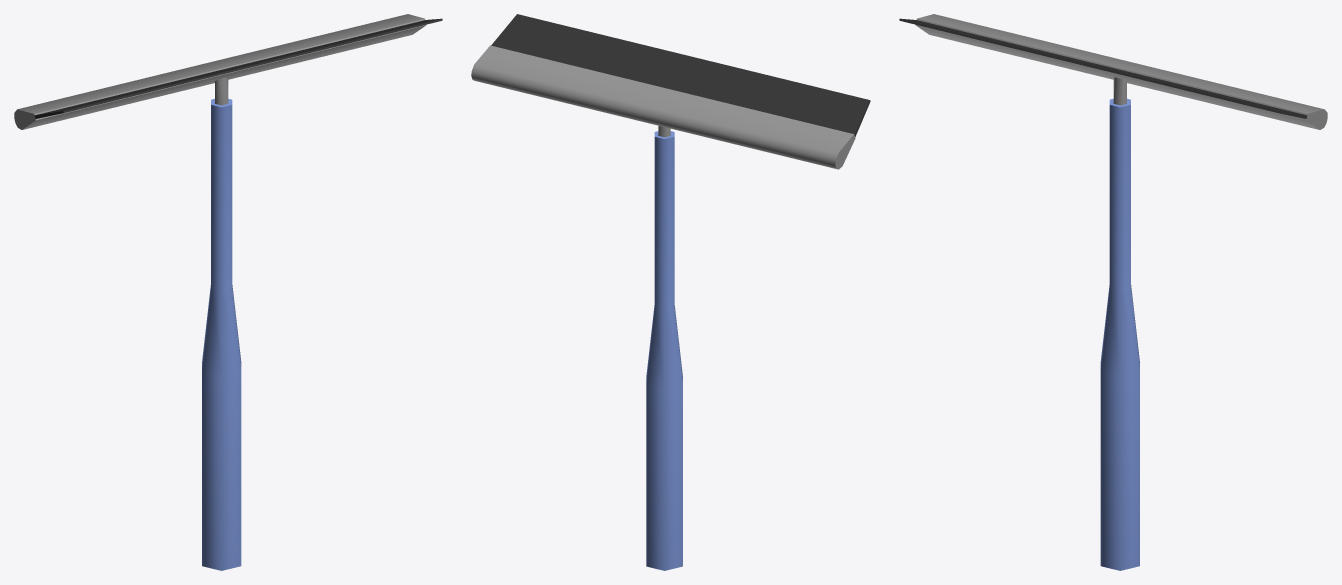
The model's file is Squeegee.fbx.
3 views of the same model, side by side, from view 1: azimuth 30°, elevation 25°; view 2: azimuth 150°, elevation 25°; view 3: azimuth 330°, elevation 25° (orthographic). The views are drawn at different scales.
Visible parts, largest first — view 1: Squeegee, Head; view 2: Head, Squeegee; view 3: Squeegee, Head.
Part boxes in pixels (x1,y1,x2,y2): Squeegee: (202,77,241,570); Head: (14,14,442,129); Head: (471,14,870,169); Squeegee: (646,125,682,570); Squeegee: (1100,77,1139,570); Head: (899,14,1327,129).
Bounding box in the file's own units: 0.9991 × 1.27 × 0.1935.
